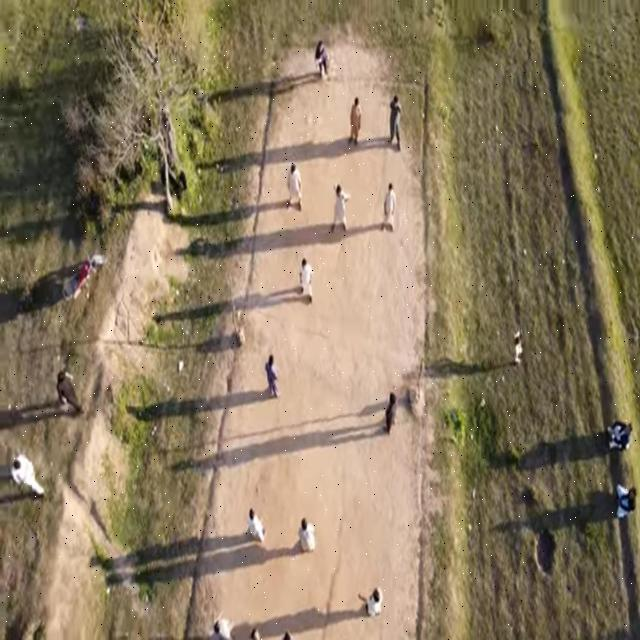humans: (11, 448, 47, 504), (56, 363, 85, 419), (606, 413, 634, 456), (330, 180, 352, 234), (378, 178, 398, 235), (261, 346, 282, 400), (294, 514, 321, 554), (284, 162, 304, 214), (614, 480, 638, 523), (359, 584, 386, 622), (345, 90, 363, 146), (387, 89, 402, 152), (297, 254, 314, 308), (244, 505, 266, 544), (382, 389, 399, 439), (211, 609, 233, 640), (314, 38, 329, 78), (512, 325, 526, 364)
